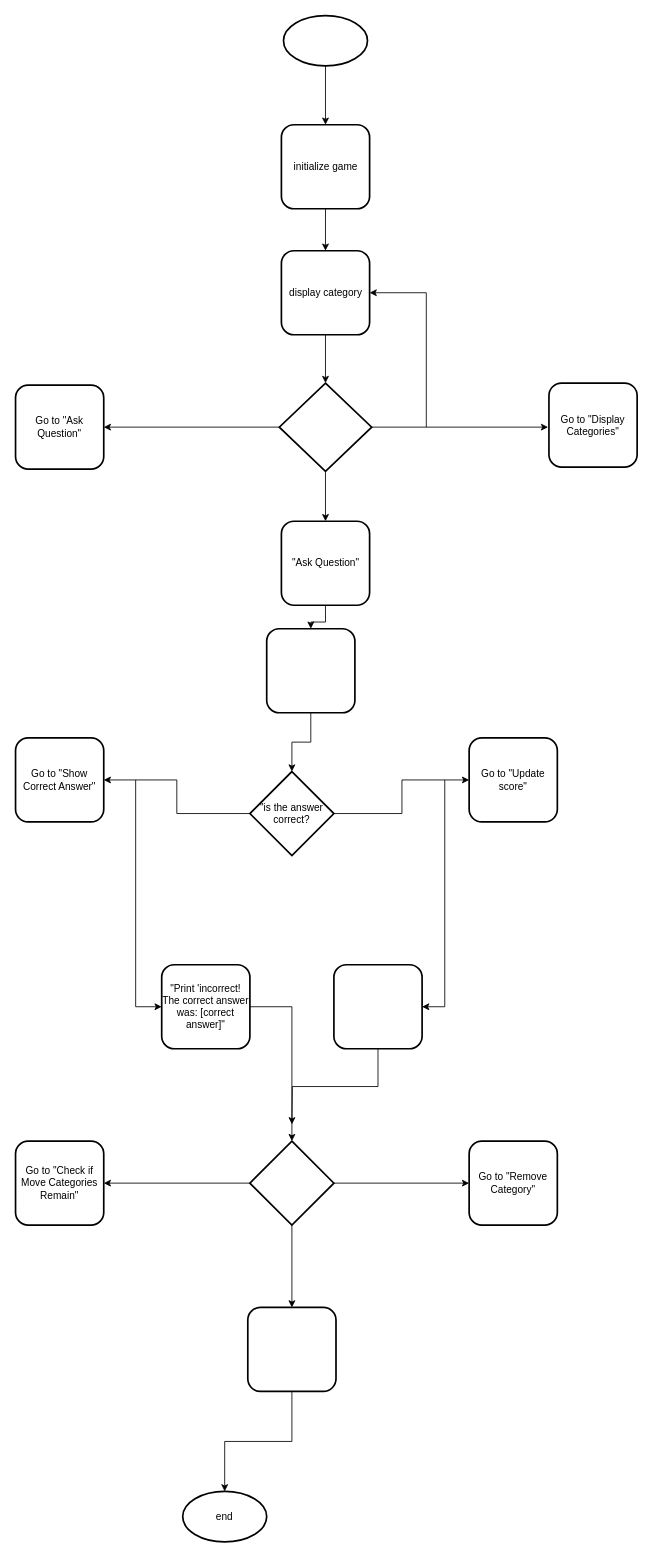
This 652x1557 diagram has some shape labels left out. Each missing label, with the box of its shape:
"Get Player's Answer": (265, 627, 355, 713)
"Print 'incorrect!' and update score": (333, 963, 423, 1049)
"Remove selected category from available categories": (247, 1306, 336, 1392)
is the selected category empty?: (249, 1140, 334, 1226)
is the selected category valid??: (278, 382, 372, 472)
start: (282, 14, 368, 66)
